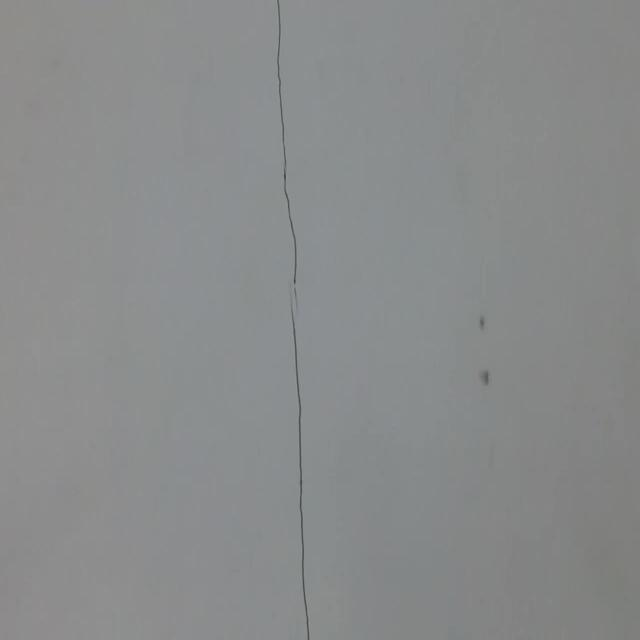Crack: (260, 0, 329, 640)
